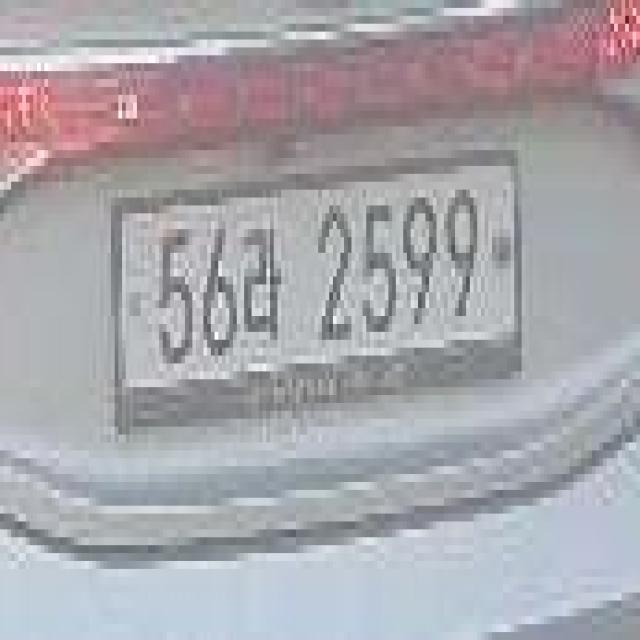illegal_plate: (104, 158, 531, 430)
